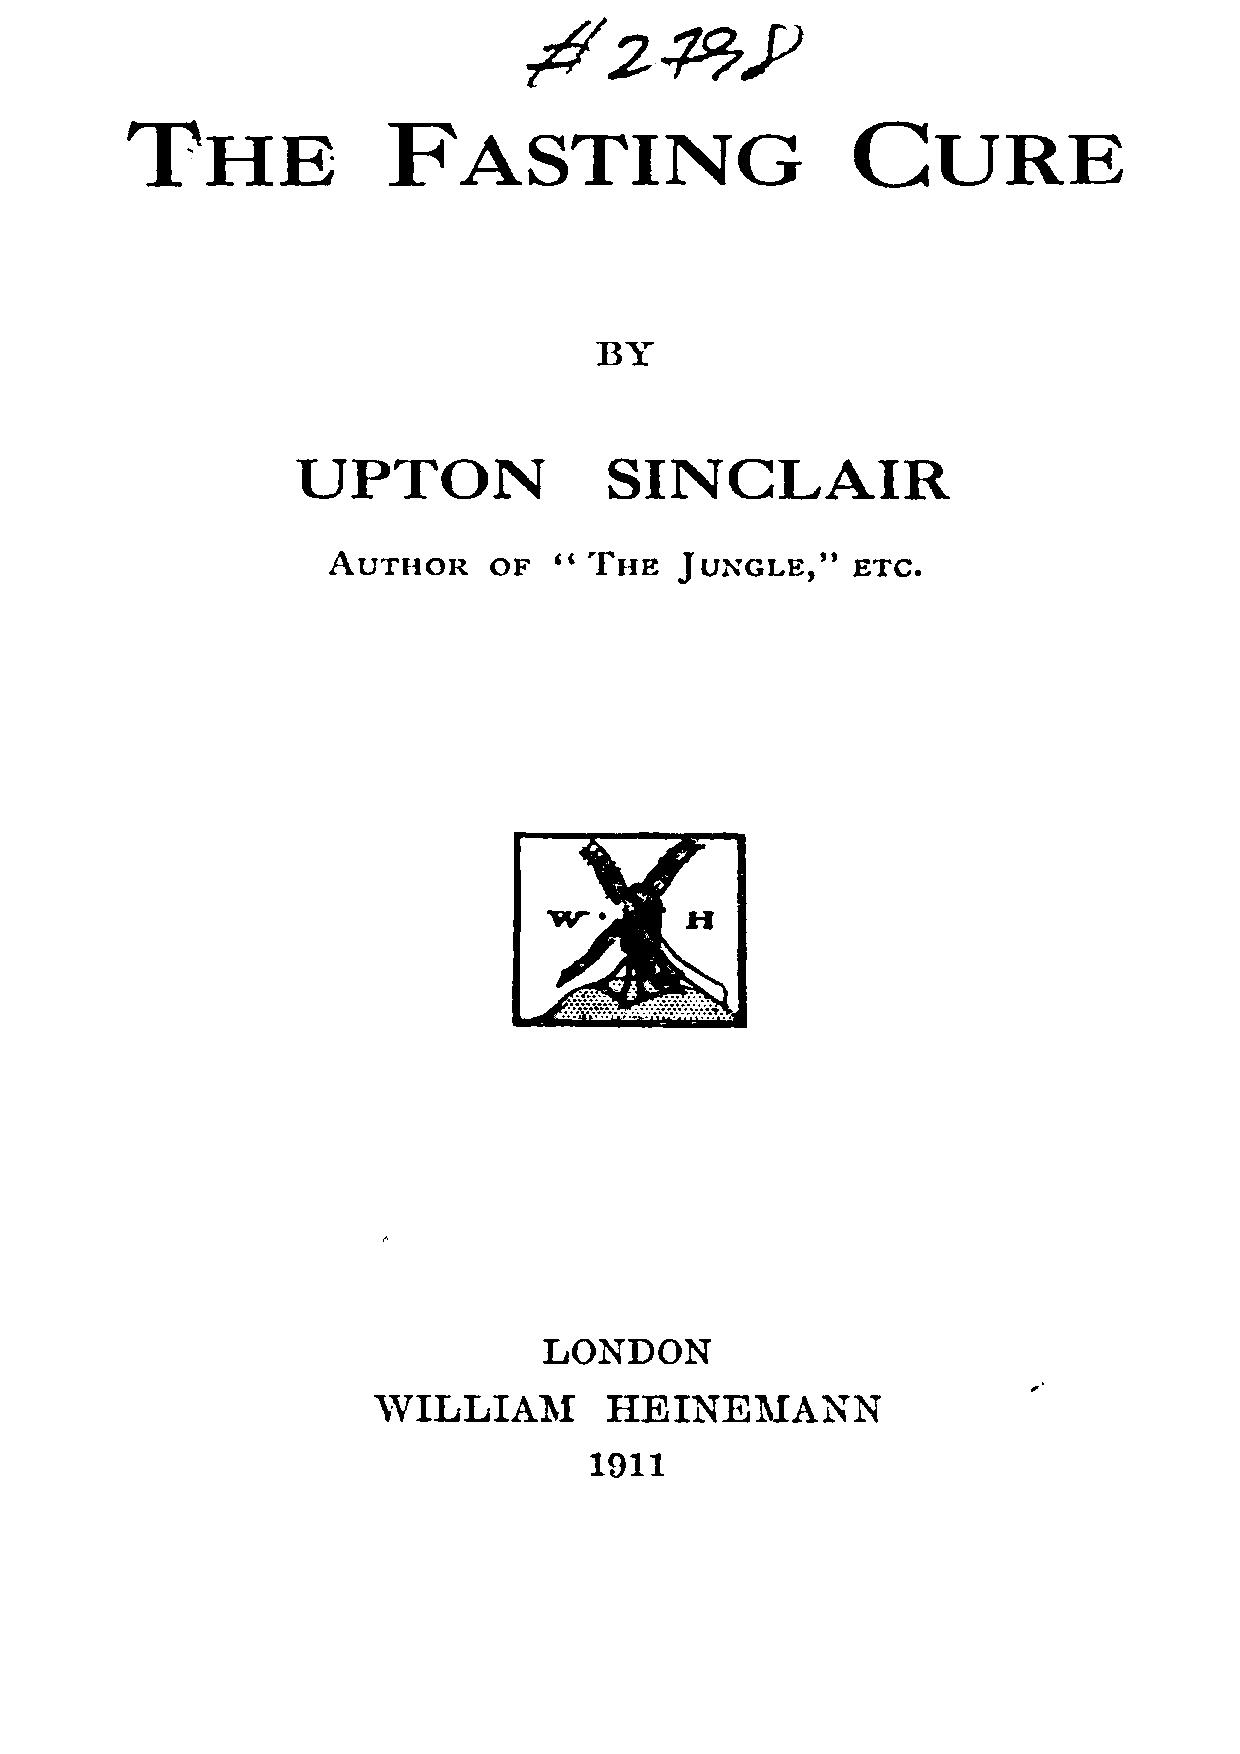author: (293, 337, 947, 502)
title: (121, 115, 1126, 193)
